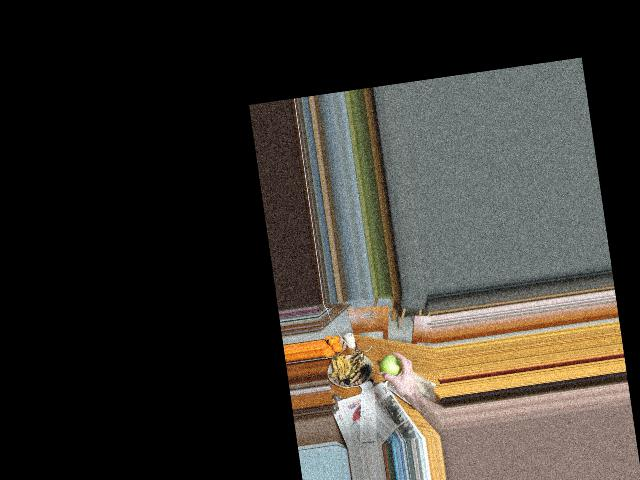apple: (378, 351, 405, 380)
